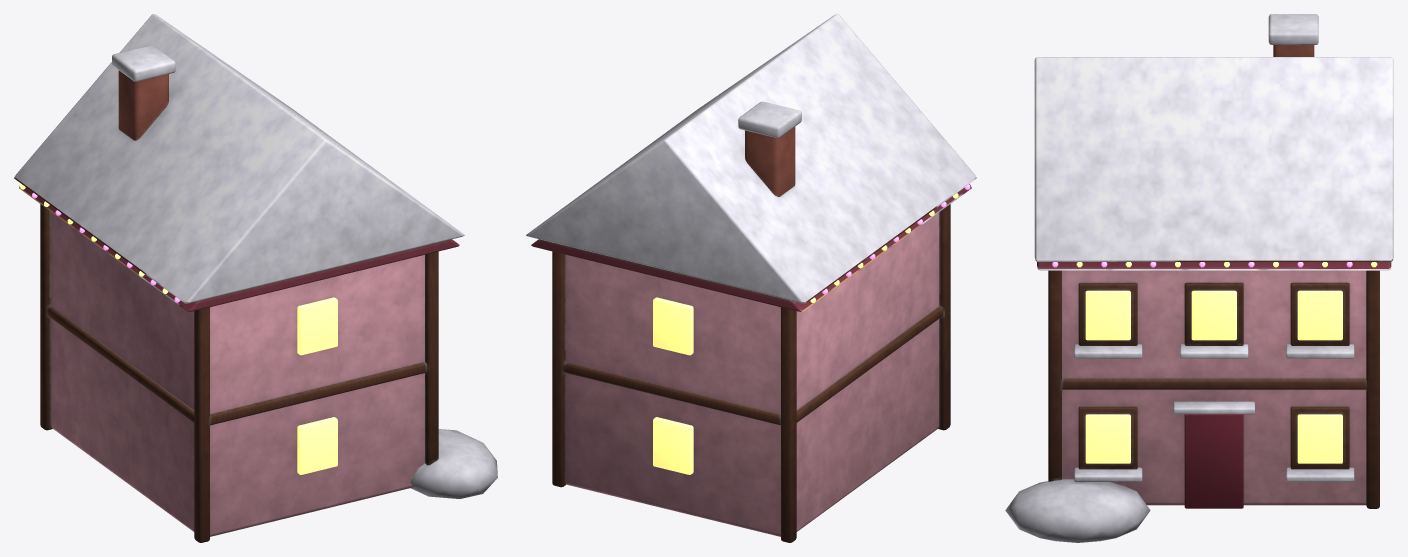
Rendered from sf_house_a.glb.
The picture shows the model from 3 angles, left to right: view 1: azimuth 30°, elevation 25°; view 2: azimuth 150°, elevation 25°; view 3: azimuth 270°, elevation 25°; orthographic projection. The views are drawn at different scales.
Visible parts, largest first — view 1: sf_house_a; view 2: sf_house_a; view 3: sf_house_a.
Part boxes in pixels (x1=…): sf_house_a: x1=14, y1=14, x2=497, y2=542; sf_house_a: x1=526, y1=14, x2=976, y2=542; sf_house_a: x1=1005, y1=14, x2=1393, y2=542.
Bounding box in the file's own units: 8.46 × 10.05 × 8.55.
9 materials, 9 textured.
